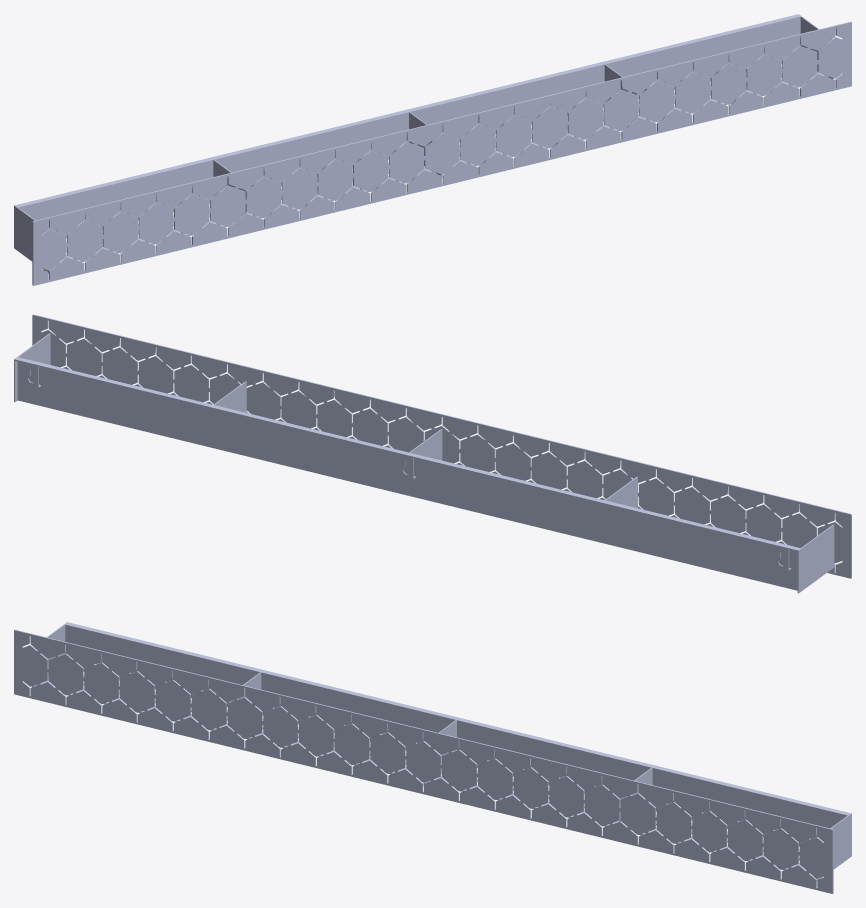
Rendered from bee-mono.4e7ae49619.glb.
The picture shows the model from 3 angles, top to bottom: view 1: azimuth 30°, elevation 25°; view 2: azimuth 150°, elevation 25°; view 3: azimuth 330°, elevation 25°; orthographic projection.
Visible parts, largest first — view 1: NAUO1; view 2: NAUO1; view 3: NAUO1.
Boxes of the visible parts, x1,y1,x2,y2 form: NAUO1: [14, 14, 851, 285]; NAUO1: [14, 314, 851, 593]; NAUO1: [14, 622, 851, 893].
Bounding box in the file's own units: 1.2 × 0.0899 × 0.092.
